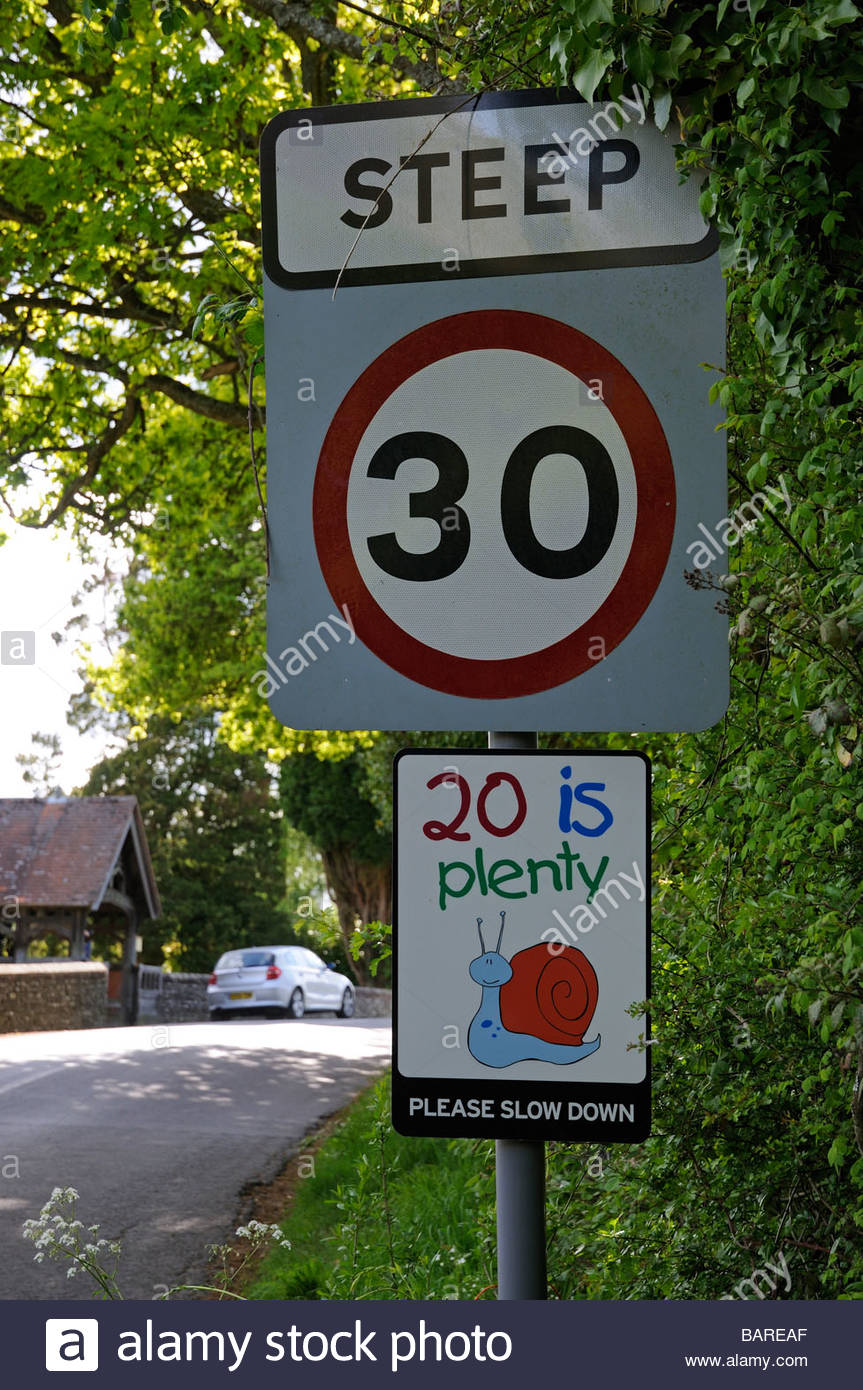Speed_limit_30km: (311, 309, 683, 697)
